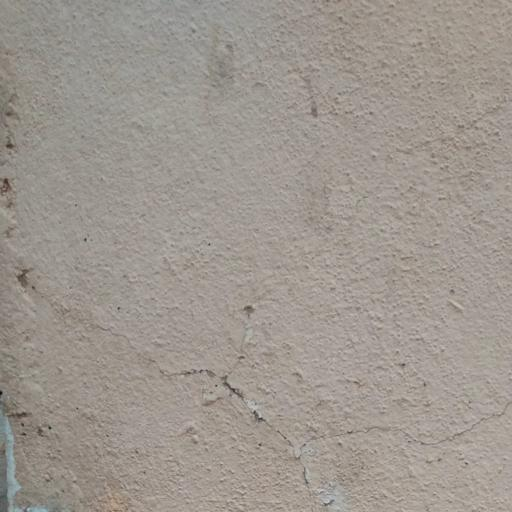minor_crack: (10, 263, 512, 512)
